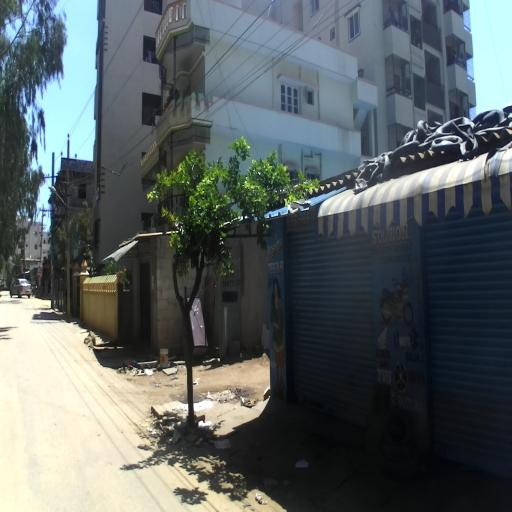street_light_0: (51, 186, 70, 222)
